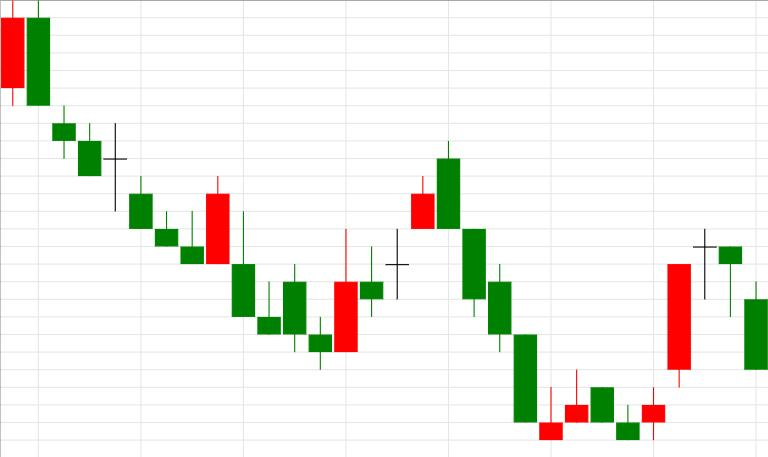bearish_engulfing_fall: (334, 140, 460, 352)
bullish_engulfing_rise: (27, 1, 230, 264)
